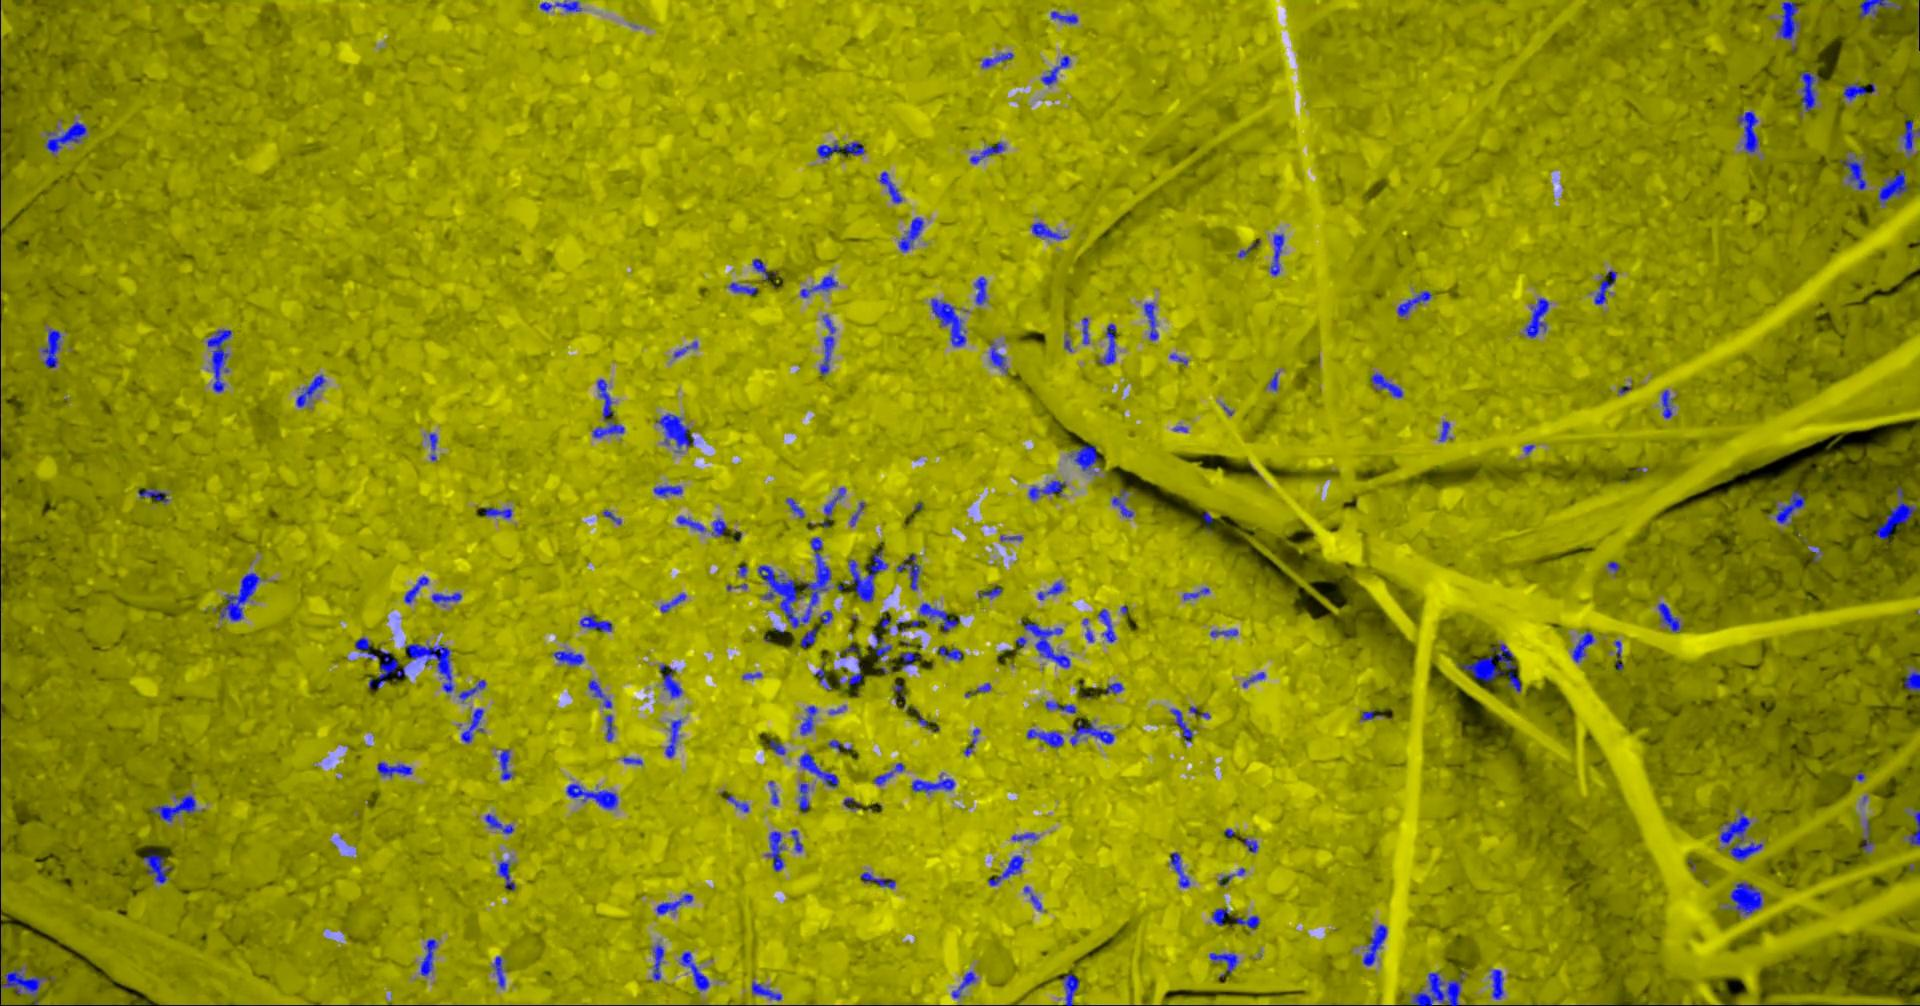ant: (1457, 643, 1521, 691), (405, 643, 453, 692), (215, 572, 260, 620), (1876, 486, 1915, 542), (1719, 809, 1763, 860), (847, 549, 888, 601), (1023, 622, 1069, 667), (1408, 970, 1464, 1005), (0, 968, 51, 1005), (592, 379, 623, 437), (930, 298, 965, 345), (207, 329, 231, 392), (368, 649, 405, 688), (657, 413, 693, 451), (799, 752, 838, 788), (565, 782, 617, 809), (44, 121, 86, 152), (149, 794, 196, 821), (918, 602, 959, 630), (1728, 882, 1763, 915), (1069, 720, 1114, 746), (1877, 168, 1907, 205), (987, 855, 1023, 885), (681, 951, 709, 989), (1775, 489, 1804, 525), (819, 486, 844, 527), (819, 314, 836, 375), (295, 373, 325, 406), (142, 848, 171, 883), (1363, 923, 1385, 965), (1396, 290, 1431, 316), (1524, 298, 1548, 337), (898, 216, 923, 251), (1777, 0, 1799, 39), (1040, 55, 1069, 85), (1737, 111, 1757, 152), (897, 553, 919, 589), (799, 276, 837, 297), (1840, 158, 1865, 189), (1370, 372, 1402, 398), (460, 708, 483, 742), (817, 141, 863, 158), (764, 831, 783, 871), (969, 141, 1004, 163), (910, 774, 954, 791), (657, 893, 692, 915), (1594, 271, 1617, 304), (1170, 708, 1192, 741), (1799, 71, 1818, 111), (1097, 323, 1115, 365), (1069, 445, 1098, 470), (659, 664, 681, 699), (879, 171, 902, 203), (41, 329, 60, 367), (843, 647, 862, 685), (872, 762, 904, 785), (1029, 480, 1065, 499), (1572, 630, 1594, 662), (404, 575, 428, 603), (870, 633, 891, 663), (1026, 729, 1063, 747), (1170, 852, 1189, 887), (951, 970, 975, 997), (588, 680, 611, 708), (1859, 0, 1895, 18), (1111, 488, 1133, 517), (1657, 602, 1679, 631), (484, 813, 513, 835), (420, 937, 437, 976), (1031, 221, 1065, 239), (458, 680, 485, 702), (1209, 951, 1237, 973), (1843, 83, 1876, 100), (1097, 608, 1115, 641), (860, 871, 895, 888), (665, 719, 681, 757), (497, 860, 516, 890), (750, 981, 781, 1000), (579, 614, 611, 631), (1902, 119, 1919, 152), (989, 342, 1007, 372), (1270, 234, 1283, 276), (1143, 302, 1157, 340), (1062, 973, 1078, 1005), (377, 761, 411, 776), (354, 636, 378, 658), (799, 705, 817, 734), (813, 662, 830, 690), (1217, 868, 1244, 885), (538, 0, 582, 11), (752, 258, 775, 279), (1037, 580, 1063, 600), (982, 52, 1012, 67), (137, 486, 168, 502), (552, 650, 583, 666), (676, 514, 703, 531), (660, 593, 684, 612), (963, 728, 979, 754), (651, 942, 663, 981), (1490, 969, 1503, 998), (1907, 809, 1919, 845), (1023, 887, 1041, 909), (673, 340, 697, 357), (785, 497, 804, 517), (430, 592, 461, 605), (1045, 700, 1076, 713), (1242, 671, 1265, 687), (728, 282, 757, 295), (499, 749, 512, 779), (938, 645, 963, 661), (1903, 667, 1919, 691), (850, 500, 863, 526), (1233, 915, 1258, 929), (1862, 819, 1872, 854), (493, 956, 504, 987), (1182, 587, 1209, 600), (799, 627, 817, 647), (1661, 389, 1672, 418), (797, 782, 809, 812), (726, 795, 748, 810), (974, 276, 985, 304), (483, 507, 510, 518), (1050, 11, 1077, 23), (653, 485, 682, 495), (1211, 907, 1228, 925), (978, 586, 1001, 598), (897, 619, 919, 631), (790, 829, 803, 852), (1437, 420, 1451, 441), (899, 652, 919, 666), (711, 518, 726, 536), (1082, 619, 1093, 641), (768, 739, 785, 754), (428, 433, 437, 460), (604, 714, 613, 741), (1243, 837, 1258, 852), (1081, 318, 1090, 343), (1103, 682, 1123, 694), (1209, 629, 1237, 636), (1011, 832, 1037, 840), (1360, 710, 1379, 720), (1203, 511, 1211, 531), (1269, 372, 1277, 390), (820, 610, 832, 622), (622, 757, 643, 763)
